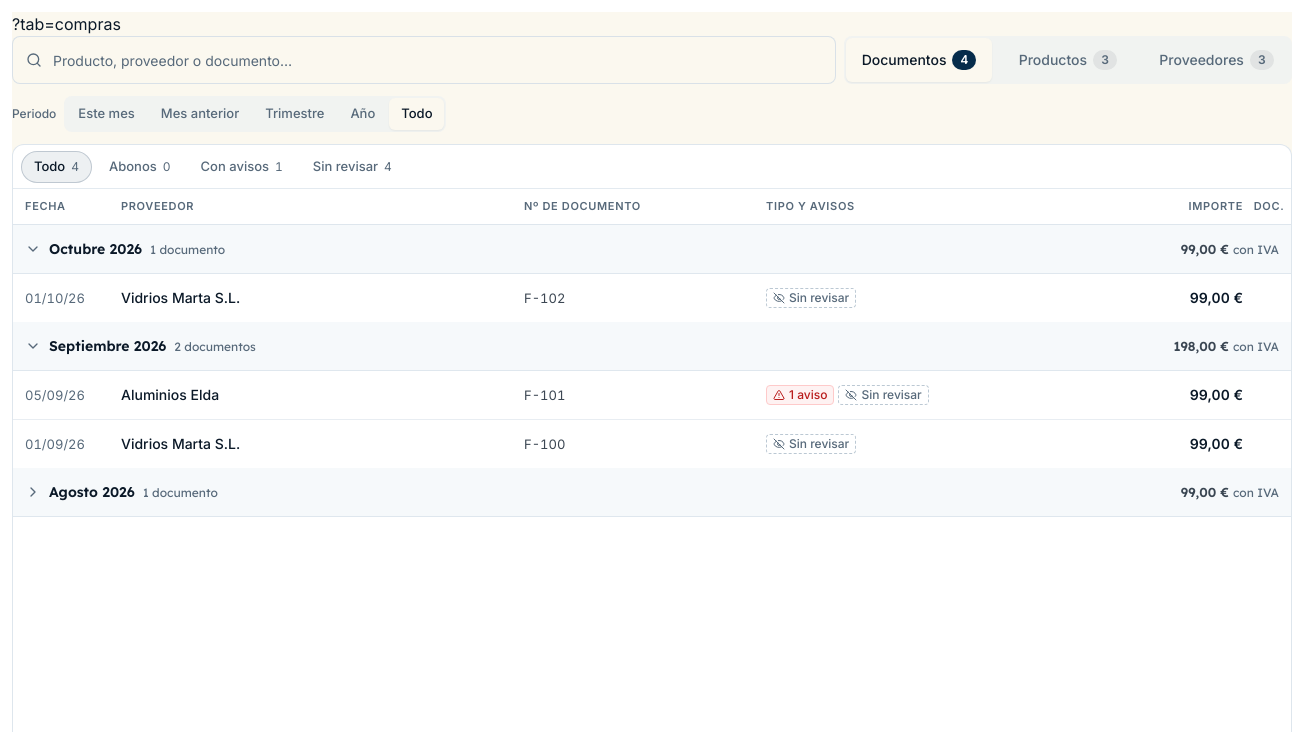
Compras · periodo, abonos y errores › Periodo «Mes anterior» (septiembre) filtra documentos y proveedores; el mes único sale abierto
The width and height of the screenshot is (1304, 732).
expect the text "F-100" is shown: met, box [524,436,565,452]
Click the button "Mes anterior" at (200, 114), box [149,98,251,130]
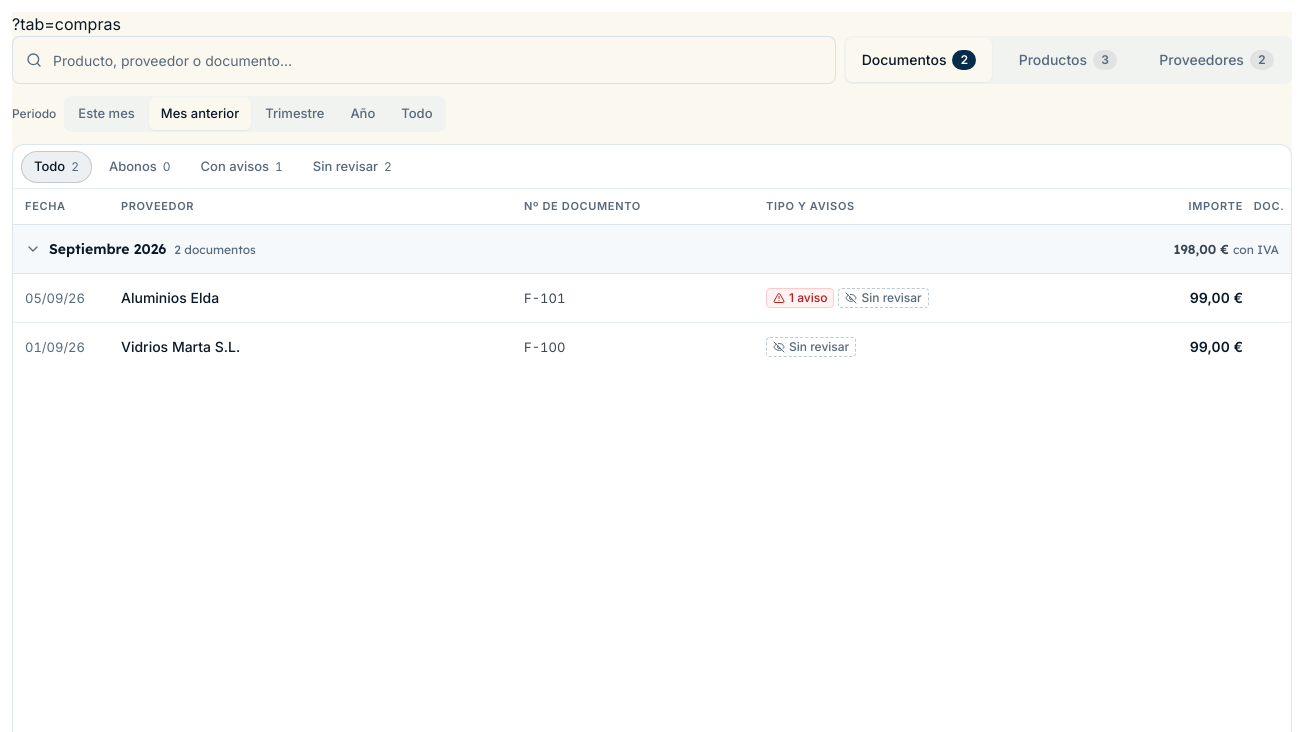
expect the button "F-102" is gone: met
